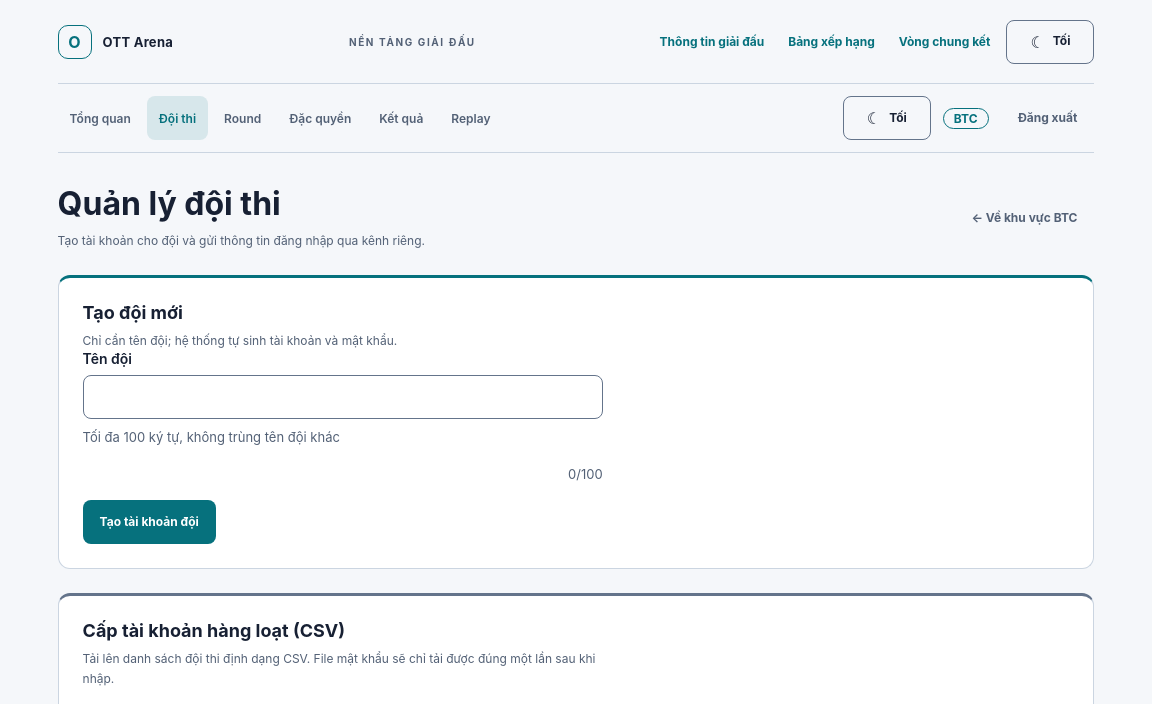
Test: BTC team provisioning › creates a team and reveals credentials only in the one-time view
The width and height of the screenshot is (1152, 704).
Type "  Beta  " into the field labelled "Tên đội" at (343, 397), box 83,375 -> 603,419
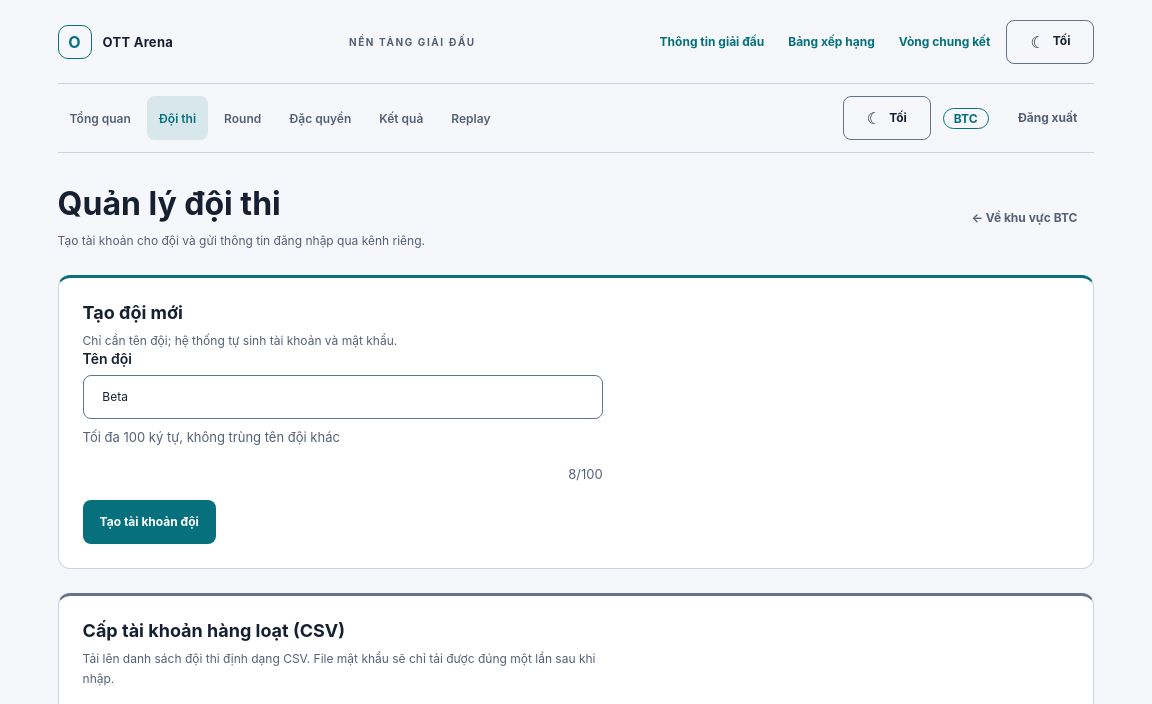
Submit the form named "tạo đội", box 83,350 -> 603,544
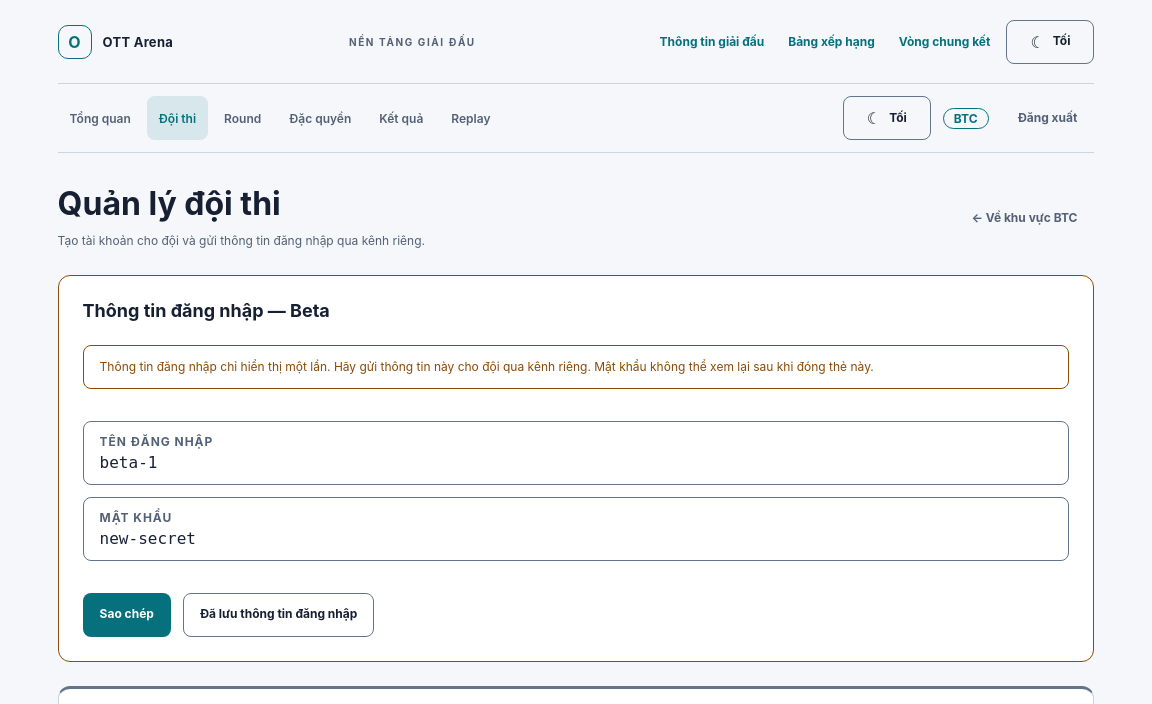
Expected: the text "new-secret" is shown, 100,529 -> 196,548
Expected: the text "beta-1" is shown, 100,453 -> 157,472
Click the button "Đã lưu thông tin đăng nhập" at (279, 615), box 183,593 -> 374,637
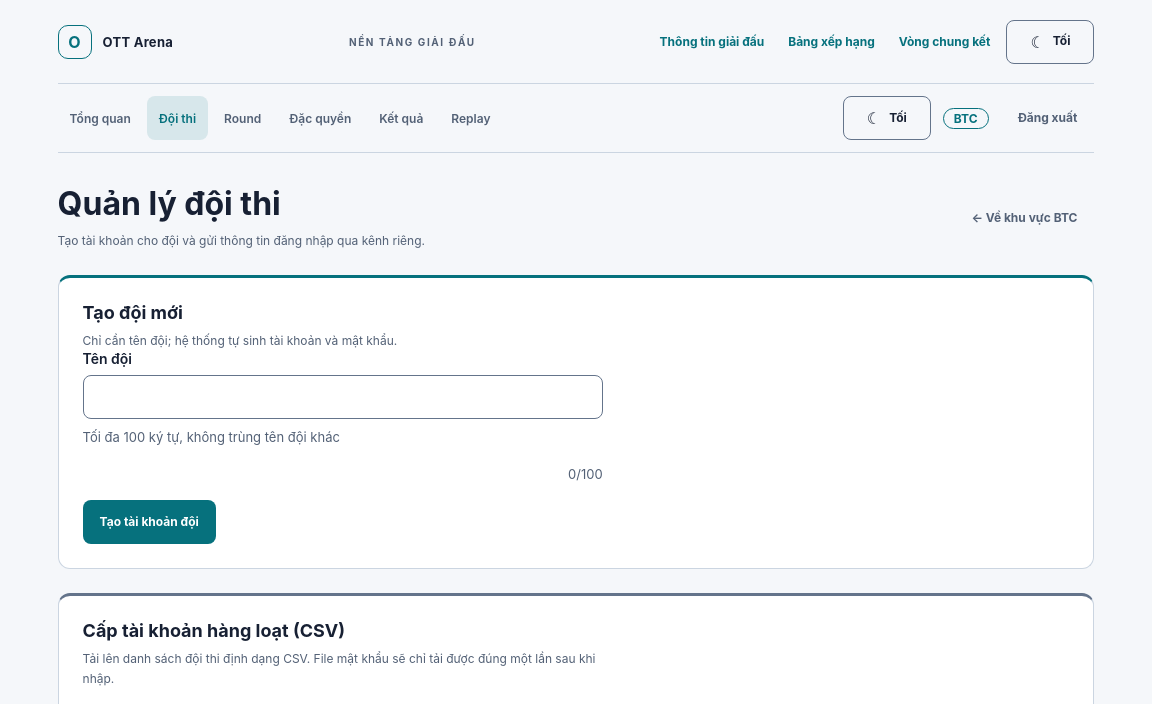
Expected: the text "new-secret" is gone
